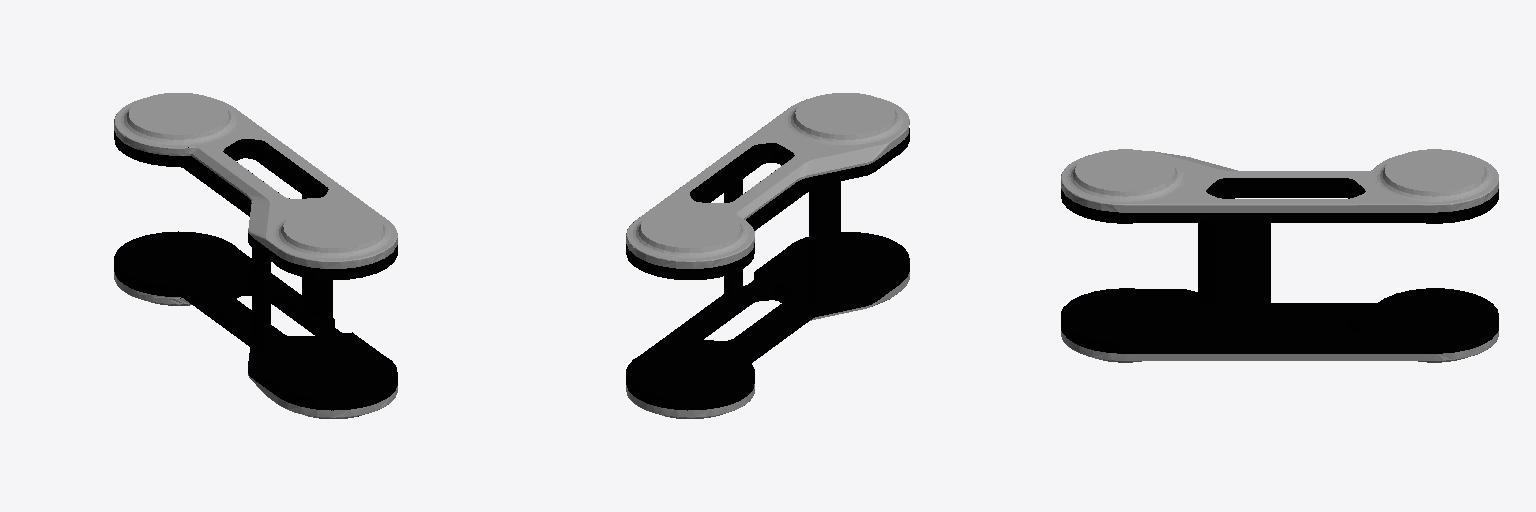
File: torso_link2.obj
3 views of the same model, side by side, from view 1: azimuth 30°, elevation 25°; view 2: azimuth 150°, elevation 25°; view 3: azimuth 270°, elevation 25° (orthographic).
Visible parts, largest first — view 1: torso_link2; view 2: torso_link2; view 3: torso_link2.
Boxes of the visible parts, box(x1,y1,x2,y2) form: torso_link2: box(114, 93, 397, 418); torso_link2: box(626, 93, 909, 418); torso_link2: box(1061, 149, 1498, 362).
Size of the model in its own units: 0.125 by 0.183 by 0.425.